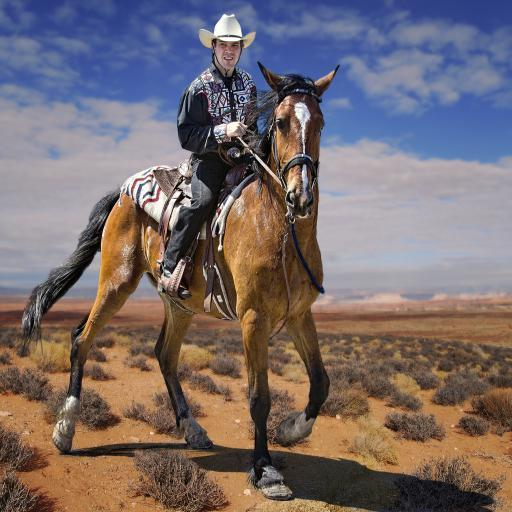horse: (20, 62, 340, 501)
